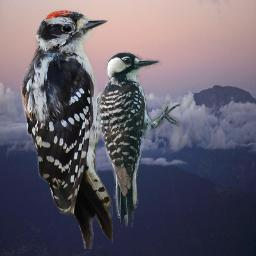Woodpecker: (18, 9, 113, 249), (95, 51, 184, 228)
